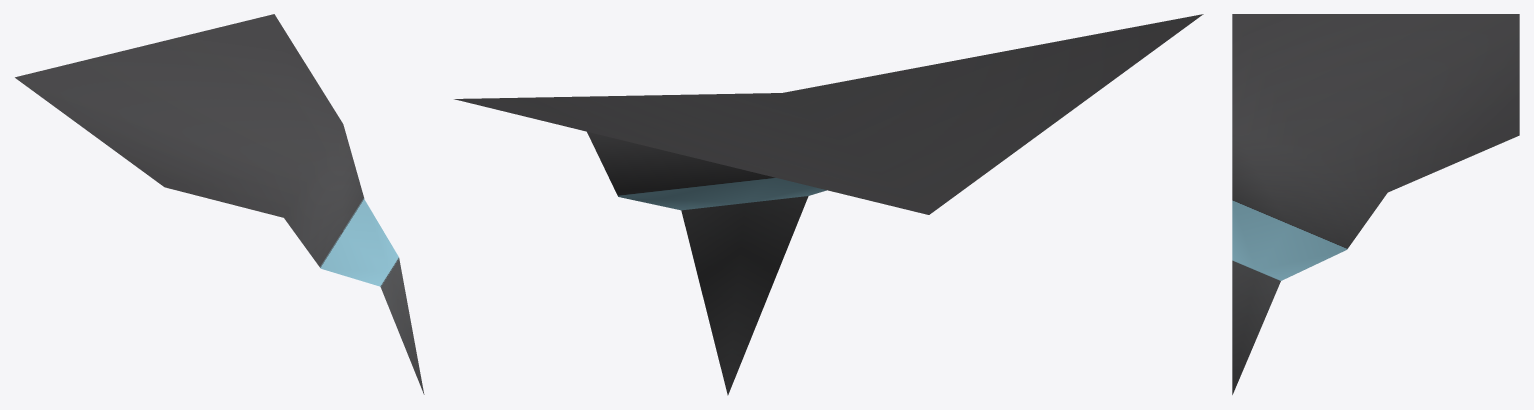
File: WallEdge_CornerInner.fbx
3 views of the same model, side by side, from view 1: azimuth 30°, elevation 25°; view 2: azimuth 150°, elevation 25°; view 3: azimuth 270°, elevation 25° (orthographic). The views are drawn at different scales.
Visible parts, largest first — view 1: EdgeFill_CornerInner; view 2: EdgeFill_CornerInner; view 3: EdgeFill_CornerInner.
Boxes of the visible parts, <box> form: EdgeFill_CornerInner: <box>15,14,424,394</box>; EdgeFill_CornerInner: <box>454,14,1203,395</box>; EdgeFill_CornerInner: <box>1232,14,1519,394</box>.
Size of the model in its own units: 1 by 1 by 1.
